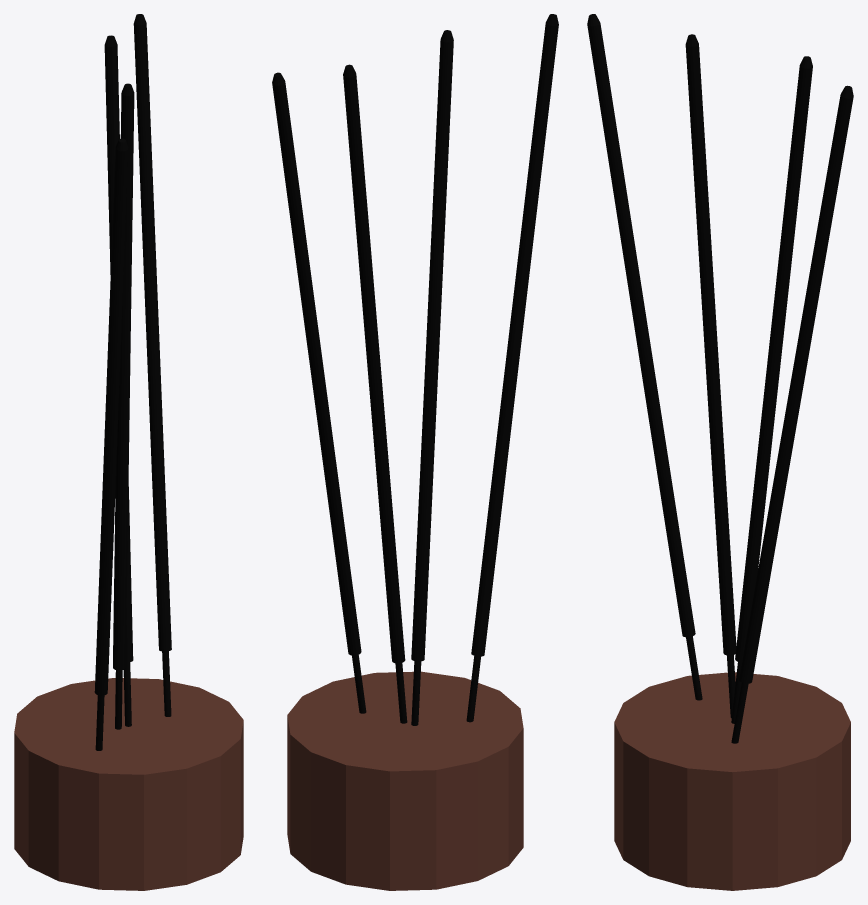
Rendered from havanprop4.fbx.
The picture shows the model from 3 angles, left to right: view 1: azimuth 30°, elevation 25°; view 2: azimuth 150°, elevation 25°; view 3: azimuth 270°, elevation 25°; orthographic projection. The views are drawn at different scales.
Visible parts, largest first — view 1: Cylinder.009, Cylinder.013, Cylinder.011, Cylinder.012, Cylinder.010; view 2: Cylinder.009, Cylinder.011, Cylinder.012, Cylinder.010, Cylinder.013; view 3: Cylinder.009, Cylinder.011, Cylinder.012, Cylinder.013, Cylinder.010.
Part boxes in pixels (<box>): Cylinder.009: <box>14,678,243,890</box>; Cylinder.013: <box>133,14,171,716</box>; Cylinder.011: <box>94,138,128,750</box>; Cylinder.012: <box>113,83,134,729</box>; Cylinder.010: <box>104,35,133,726</box>; Cylinder.009: <box>287,671,523,890</box>; Cylinder.011: <box>466,14,558,722</box>; Cylinder.012: <box>411,30,453,725</box>; Cylinder.010: <box>343,64,407,723</box>; Cylinder.013: <box>272,72,366,713</box>; Cylinder.009: <box>614,672,850,890</box>; Cylinder.011: <box>587,14,702,700</box>; Cylinder.012: <box>685,34,736,717</box>; Cylinder.013: <box>731,85,853,743</box>; Cylinder.010: <box>731,56,812,723</box>.
Bounding box in the file's own units: 5.87 × 21.75 × 6.61.
